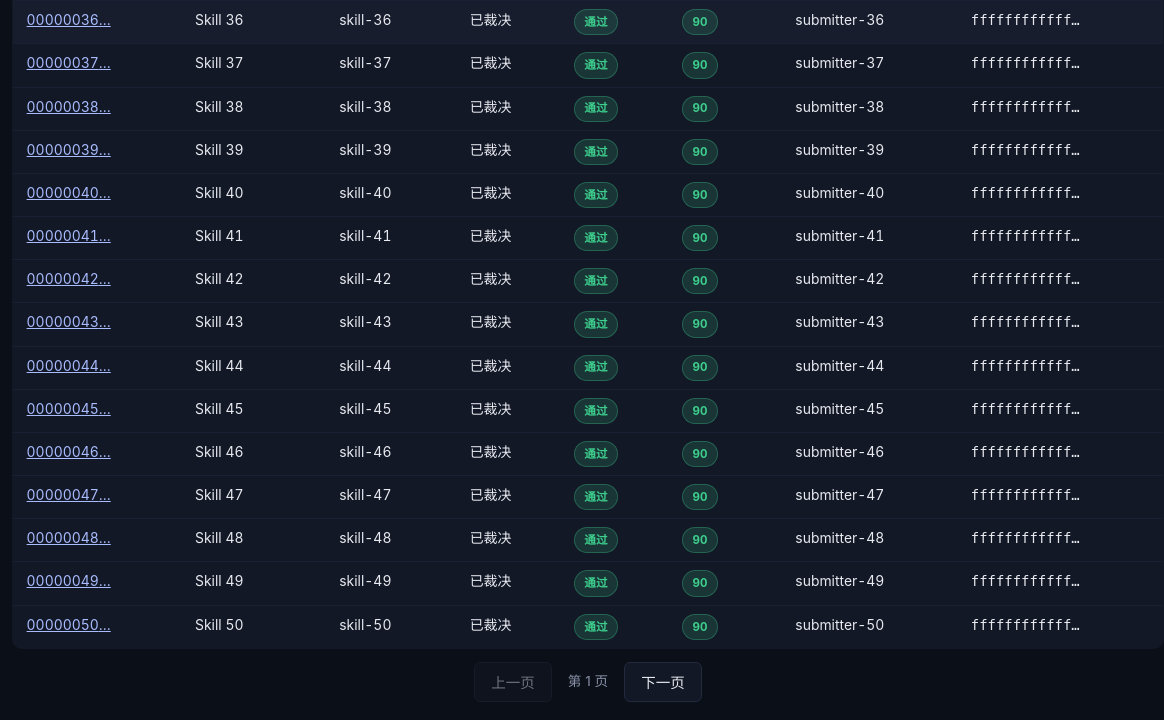
Test: ScansPage pagination › stops offering a next page once a short page comes back
(page scrolled)
Click the button "下一页" at coordinates (663, 682), box left=624, top=662, right=702, bottom=702
(page scrolled)
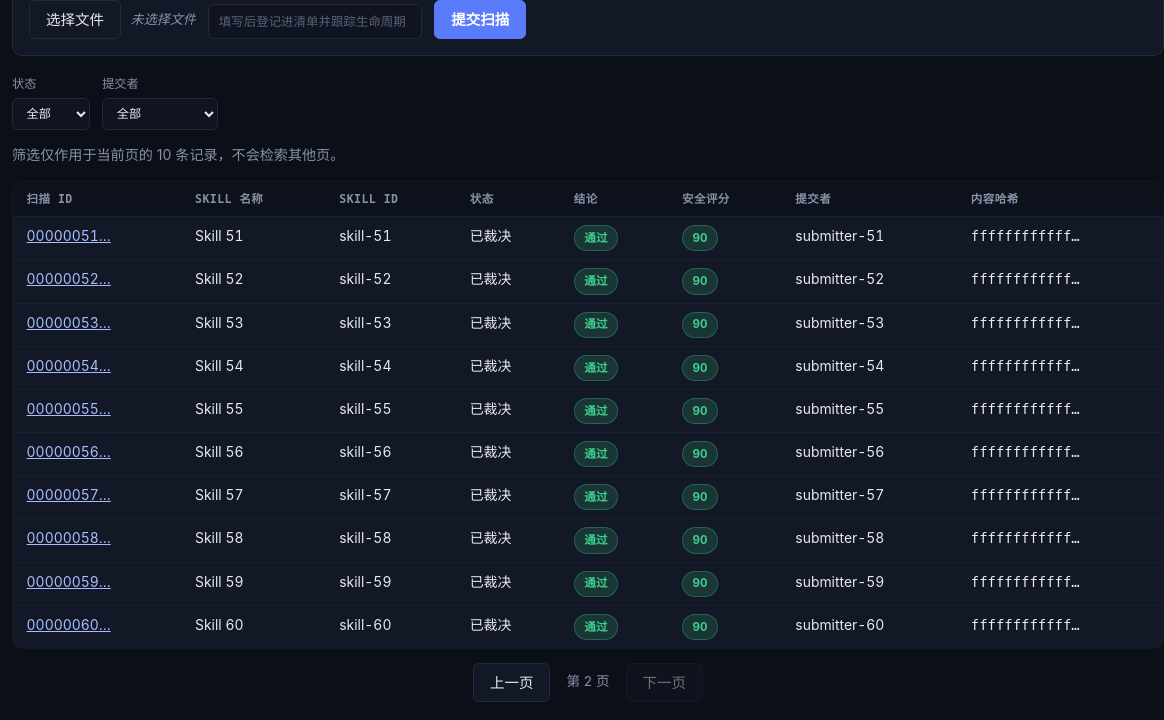
Expected: the text "Skill 51" is shown, left=181, top=217, right=326, bottom=260
Expected: the button "下一页" is disabled, left=626, top=662, right=703, bottom=702
Expected: the button "上一页" is enabled, left=473, top=662, right=550, bottom=702
